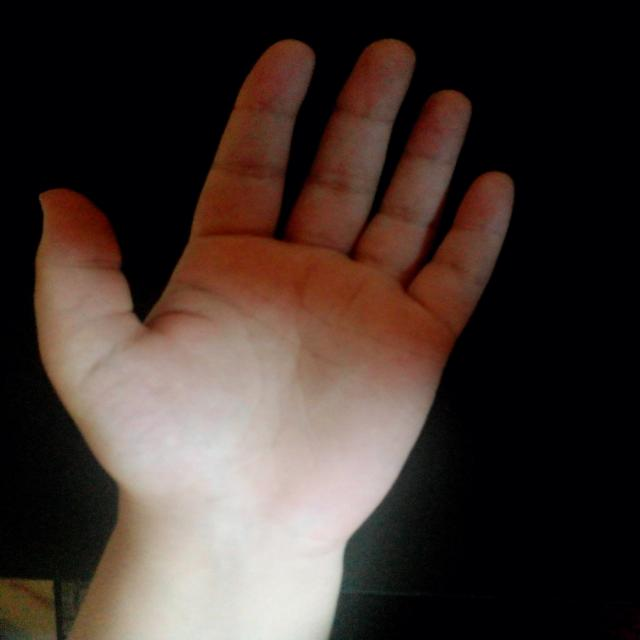Open Hand: (36, 39, 512, 526)
